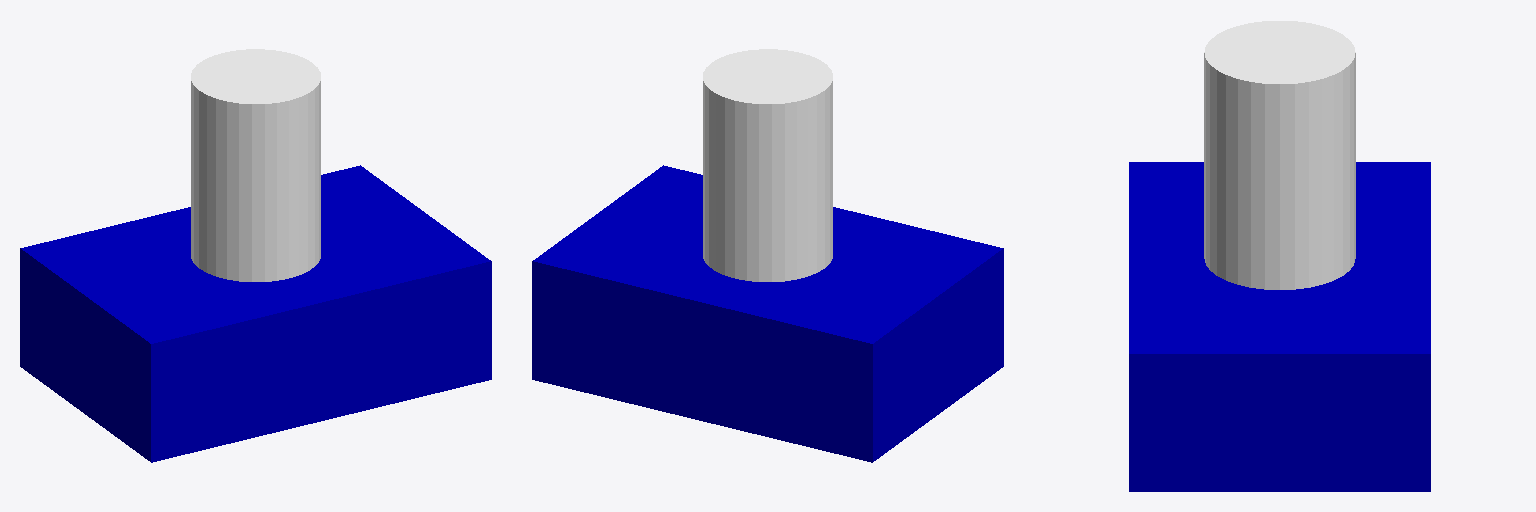
The robot description file, URDF, robot "simple_example_robot":
<?xml version="1.0" ?>
<!-- =================================================================================== -->
<!-- |    This document was autogenerated by xacro from my_robot.xacro                 | -->
<!-- |    EDITING THIS FILE BY HAND IS NOT RECOMMENDED                                 | -->
<!-- =================================================================================== -->
<robot name="simple_example_robot">
  <!-- Create a material -->
  <material name="blue">
    <color rgba="0 0 0.8 1"/>
  </material>
  <material name="white">
    <color rgba="1 1 1 1"/>
  </material>
  <!-- Create an object -->
  <link name="base_link">
    <visual>
      <geometry>
        <box size="0.6 0.4 0.2"/>
      </geometry>
      <!-- Apply material -->
      <material name="blue"/>
    </visual>
  </link>
  <link name="head_link">
    <visual>
      <geometry>
        <cylinder length="0.3" radius="0.1"/>
      </geometry>
      <!-- Pos to be on the top of the box -->
      <origin rpy="0 0 0" xyz="0 0 0.15"/>
      <material name="white"/>
    </visual>
  </link>
  <!-- Link both object -->
  <joint name="neck_joint" type="continuous">
    <parent link="base_link"/>
    <child link="head_link"/>
    <!-- Pos of the car, xyz than rotation -->
    <origin rpy="0 0 0" xyz="0 0 0.1"/>
    <axis xyz="0 0 1"/>
  </joint>
</robot>

--- Render facts (derived) ---
3 views of the same robot in one strip: view 1: azimuth 30°, elevation 25°; view 2: azimuth 150°, elevation 25°; view 3: azimuth 270°, elevation 25° (orthographic).
Robot: simple_example_robot — 2 links, 1 joints (1 continuous); root link base_link; default pose: all joints at 0.
Visible links, largest first — view 1: base_link, head_link; view 2: base_link, head_link; view 3: base_link, head_link.
Link boxes in pixels (x1,y1,x2,y2): base_link: [20, 165, 491, 462]; head_link: [191, 49, 320, 281]; base_link: [532, 165, 1003, 462]; head_link: [703, 49, 832, 281]; base_link: [1129, 162, 1430, 491]; head_link: [1204, 21, 1355, 289].
Bounding box of the posed robot: 0.6 × 0.4 × 0.5 m (x, y, z).
Geometry: primitives only (box / cylinder / sphere), no mesh files.
